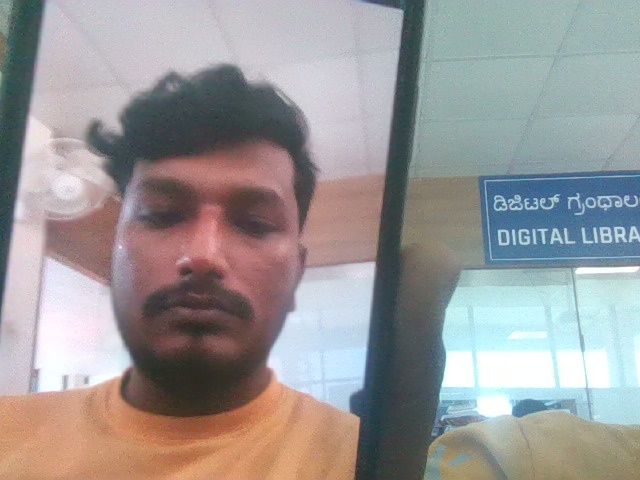fake: (86, 55, 332, 403)
